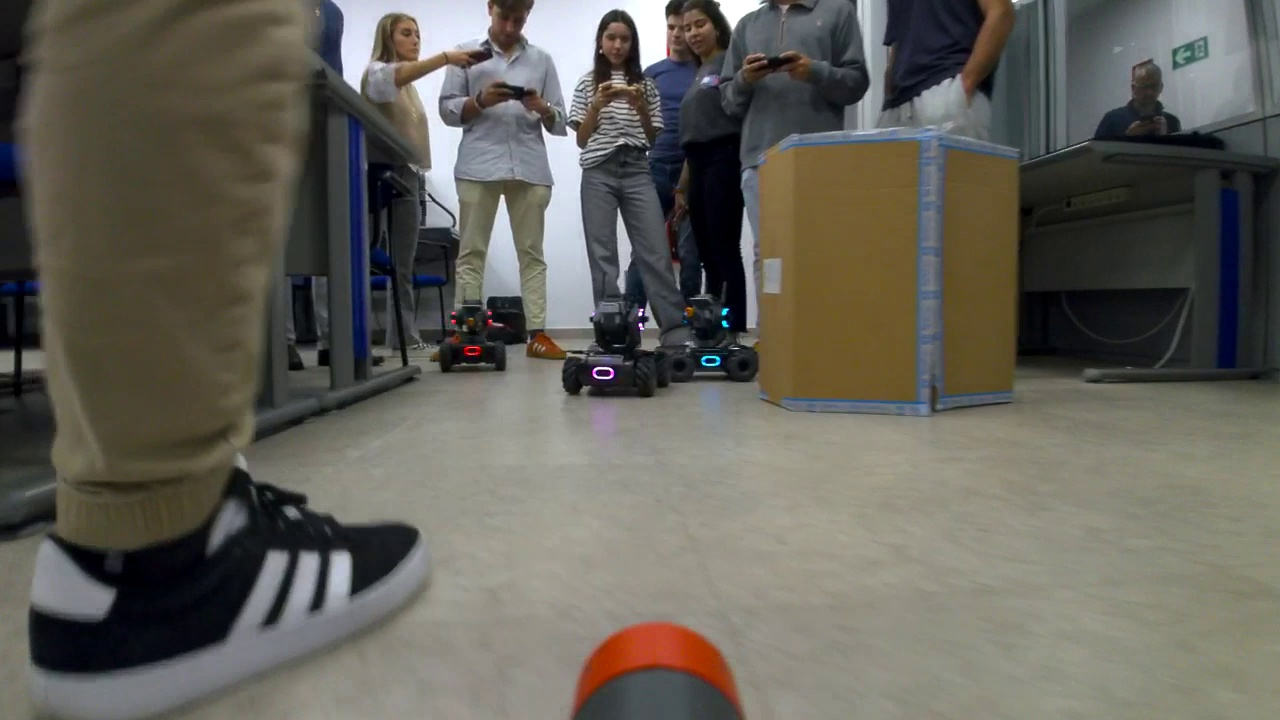robot: (562, 286, 668, 396), (669, 286, 753, 385), (436, 297, 510, 369)
